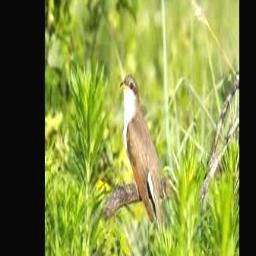Cuckoo: (119, 74, 164, 235)
